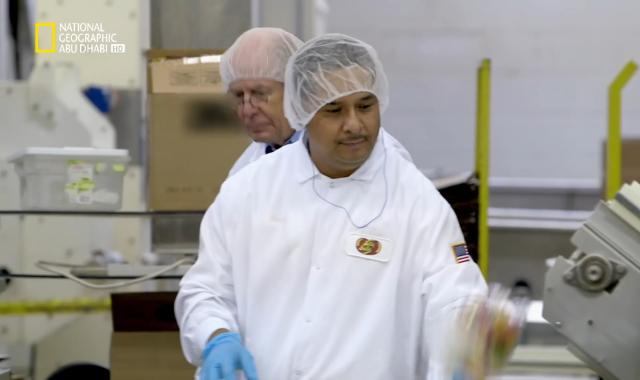hairnet: (290, 34, 390, 122), (220, 26, 302, 85)
